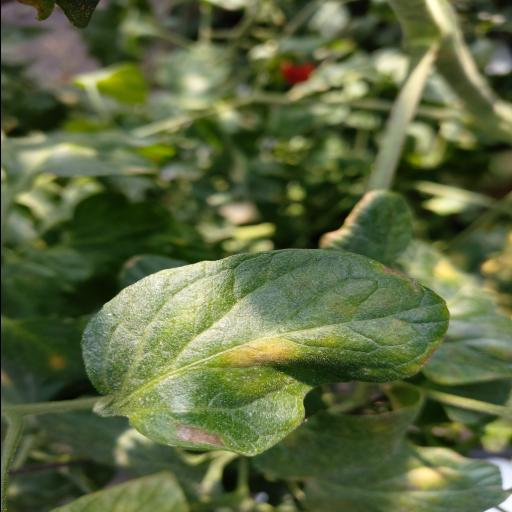Leaf Mold: (77, 248, 451, 456)
